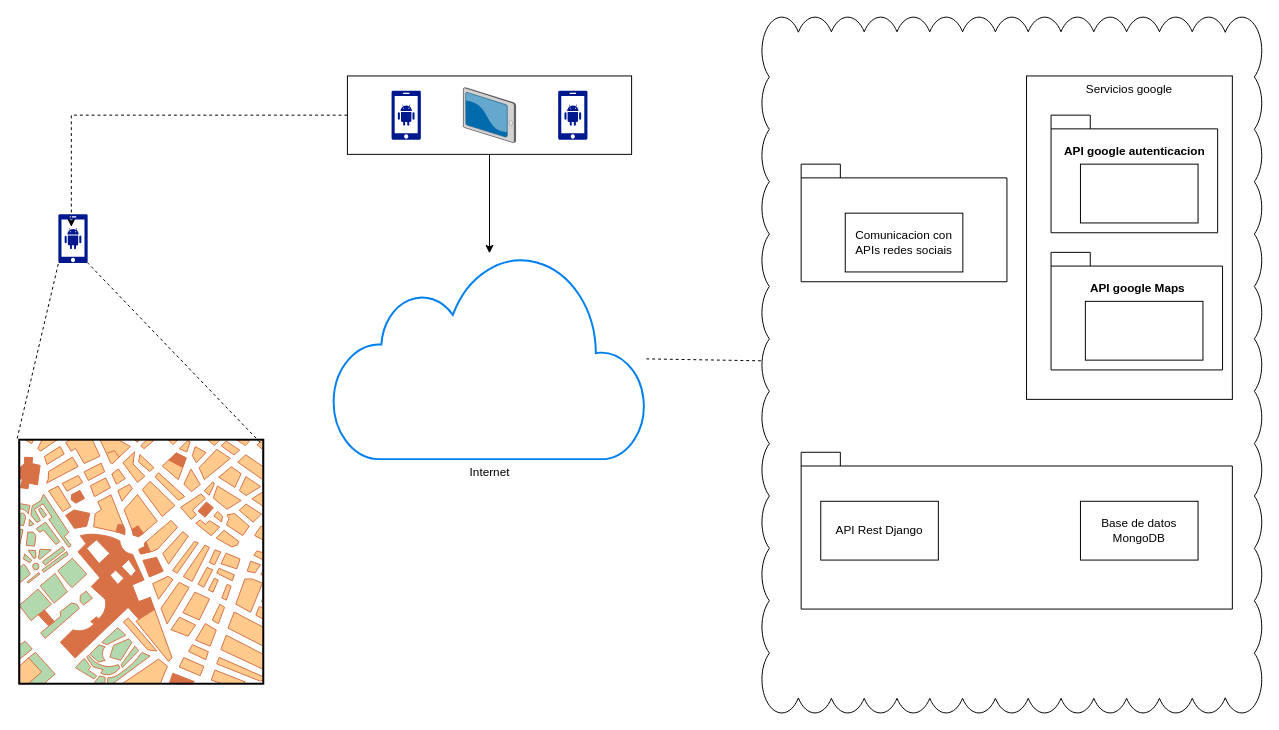
This 1279x730 diagram has some shape labels left out. The shapes that lost their labels are listed below. From the top down, each one's box as (x1, y1, x2, y2) in pixels, then its label:
(1079, 163, 1198, 223): Autenticacion
(800, 163, 1007, 282): API redes sociais
(1084, 300, 1203, 360): Comunicacion con API google Maps
(800, 451, 1232, 609): Backend
